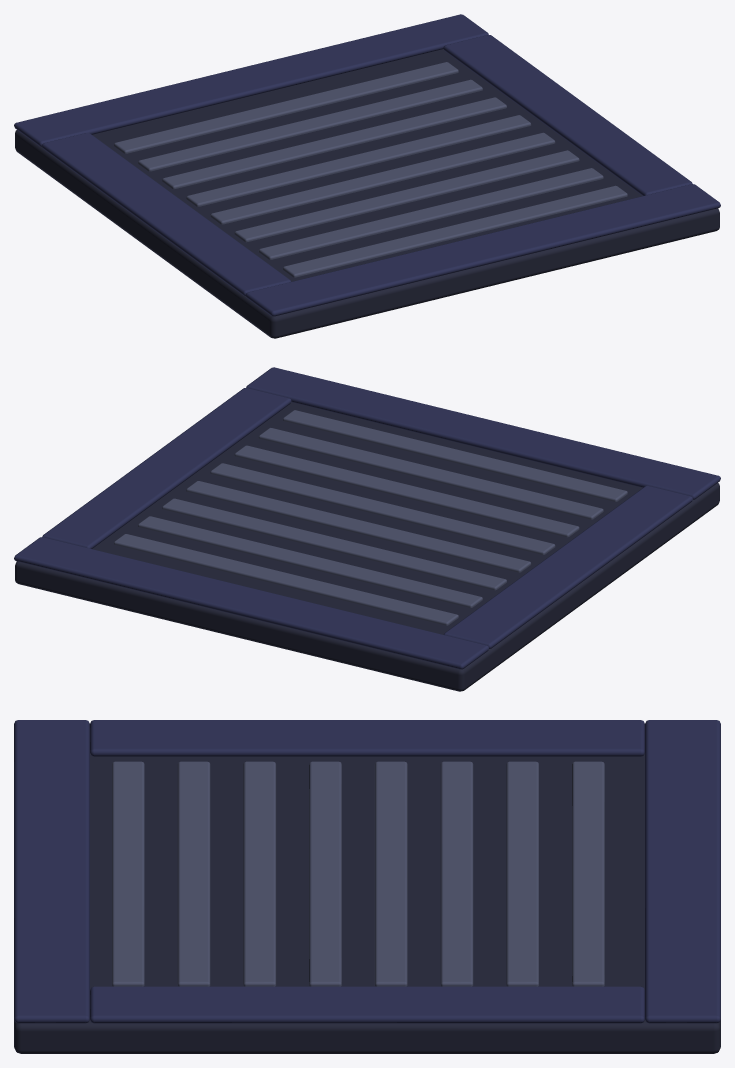
The model's file is floor.grate.glb.
3 views of the same model, one above another, from view 1: azimuth 30°, elevation 25°; view 2: azimuth 150°, elevation 25°; view 3: azimuth 270°, elevation 25° (orthographic). The views are drawn at different scales.
Visible parts, largest first — view 1: floor.grate; view 2: floor.grate; view 3: floor.grate.
Part boxes in pixels (bbox=[...]): floor.grate: bbox=[14, 14, 720, 338]; floor.grate: bbox=[14, 367, 720, 691]; floor.grate: bbox=[14, 720, 720, 1053].
Size of the model in its own units: 0.968 by 0.06 by 0.968.
